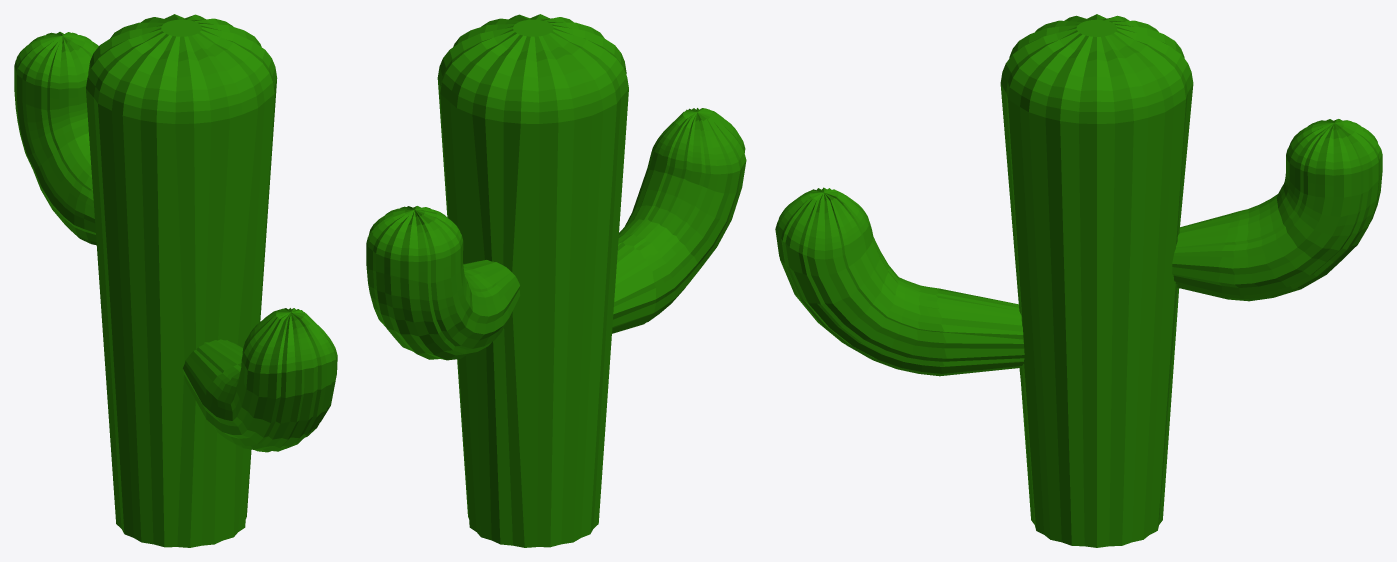
Rendered from Cactus.fbx.
The picture shows the model from 3 angles, left to right: view 1: azimuth 30°, elevation 25°; view 2: azimuth 150°, elevation 25°; view 3: azimuth 270°, elevation 25°; orthographic projection.
Visible parts, largest first — view 1: cactus; view 2: cactus; view 3: cactus.
Boxes of the visible parts, x1,y1,x2,y2 form: cactus: (14, 14, 337, 547); cactus: (366, 14, 746, 547); cactus: (775, 14, 1382, 547).
Size of the model in its own units: 200 by 563 by 630.
